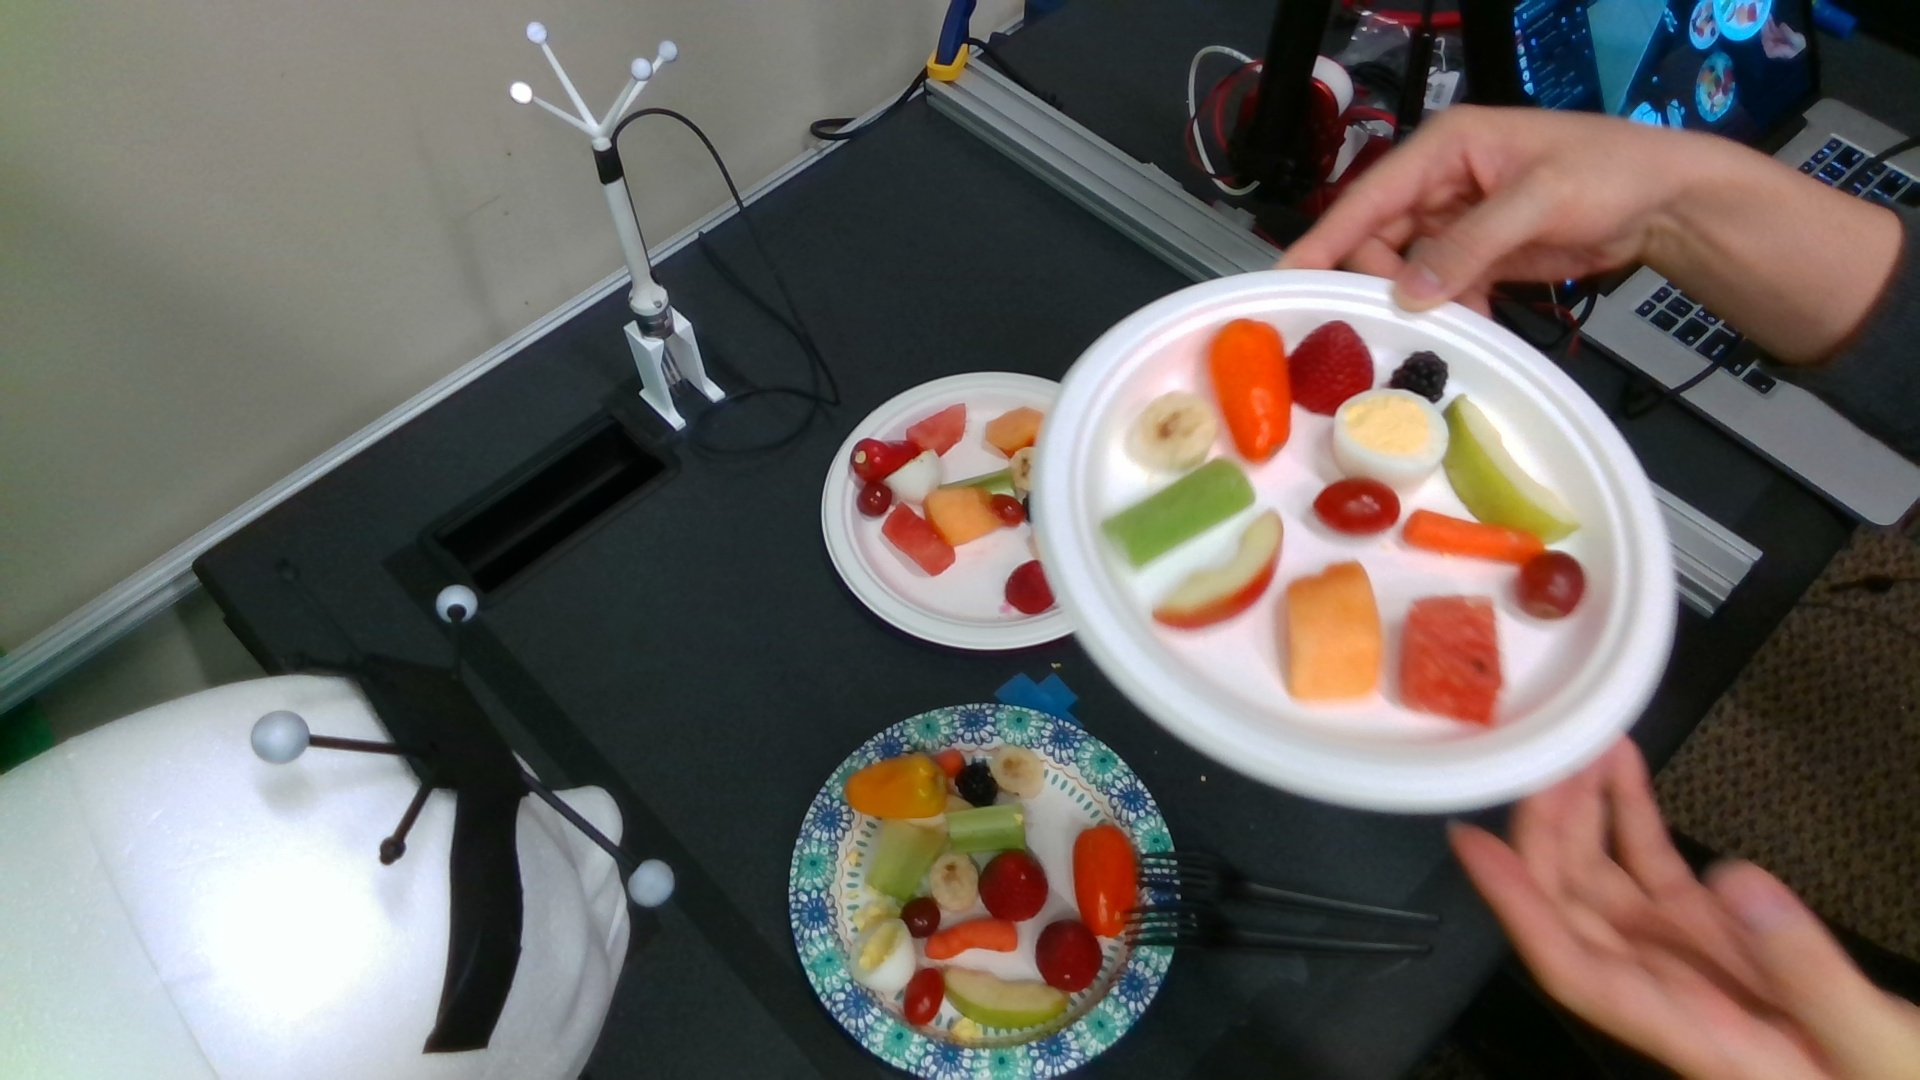apple: (1441, 396, 1578, 542), (1160, 513, 1282, 626), (942, 965, 1069, 1025)
banana: (1133, 392, 1215, 471), (930, 853, 977, 913), (992, 749, 1043, 798)
bell_pepper: (1215, 319, 1287, 462), (1073, 824, 1135, 938), (845, 757, 945, 816), (852, 439, 920, 480)
blackberry: (1393, 349, 1443, 402), (957, 764, 997, 807)
cantalope: (1288, 560, 1379, 698), (924, 488, 1004, 543), (986, 409, 1042, 452)
carrot: (1402, 509, 1542, 558), (927, 919, 1015, 959)
celery: (1104, 462, 1255, 568), (870, 822, 943, 898), (949, 803, 1026, 851)
cherry_tomato: (1313, 483, 1399, 531), (907, 969, 944, 1025), (993, 495, 1022, 525)
egg: (1336, 389, 1447, 488), (852, 918, 913, 989), (885, 448, 942, 501)
grape: (1520, 553, 1581, 618), (901, 898, 939, 936), (858, 481, 891, 516)
melon: (1400, 597, 1501, 723), (884, 504, 953, 574), (910, 405, 967, 454)
plate: (1029, 268, 1676, 814), (790, 703, 1182, 1080), (820, 371, 1087, 647)
strawberry: (1291, 322, 1371, 413), (981, 853, 1047, 920), (1038, 922, 1100, 990), (1007, 560, 1056, 613)
